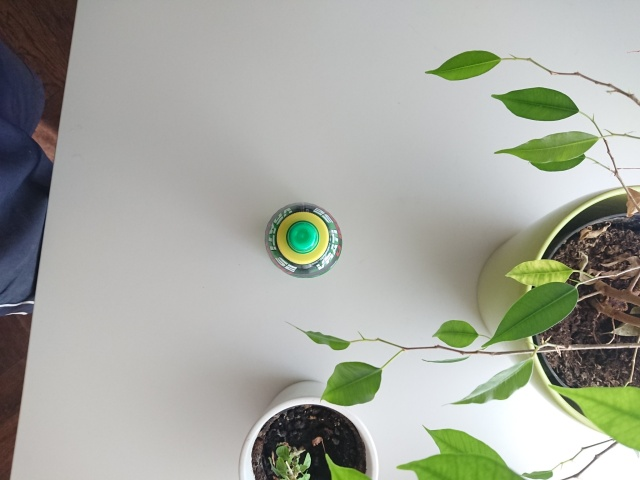Vindi Iso Sport Lemon-Grapefruit 500mL: (261, 200, 345, 280)
